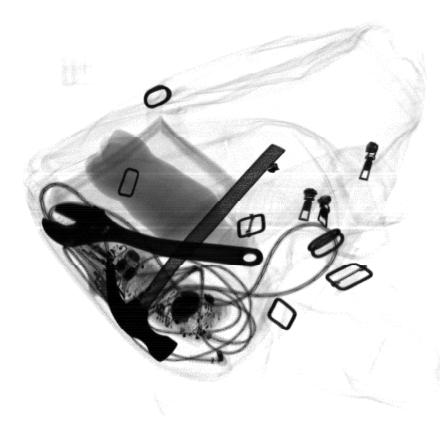Hammer: (106, 141, 287, 362)
Wrench: (42, 202, 264, 266)
